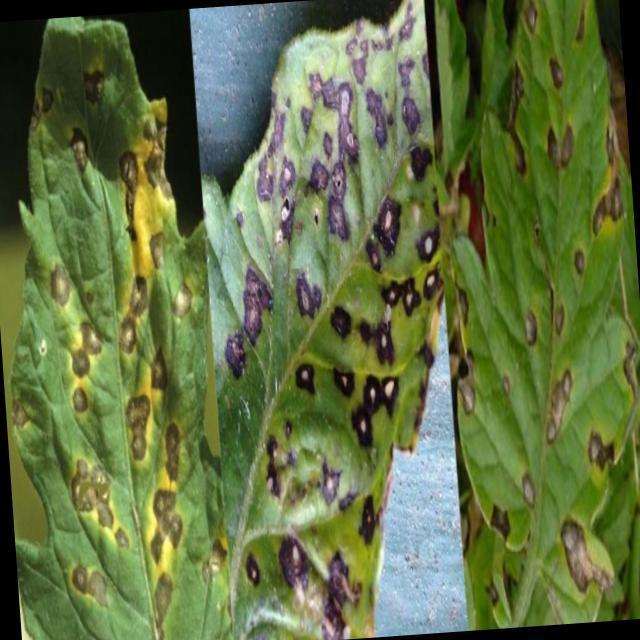Septoria: (52, 230, 202, 419), (236, 431, 378, 629), (30, 55, 176, 228), (130, 404, 230, 640), (324, 229, 442, 425), (250, 74, 364, 236), (351, 12, 438, 208), (508, 354, 611, 517), (218, 239, 326, 383), (520, 0, 593, 190), (54, 438, 128, 616), (508, 233, 592, 351), (552, 514, 604, 607), (587, 122, 626, 236), (454, 344, 484, 426)
